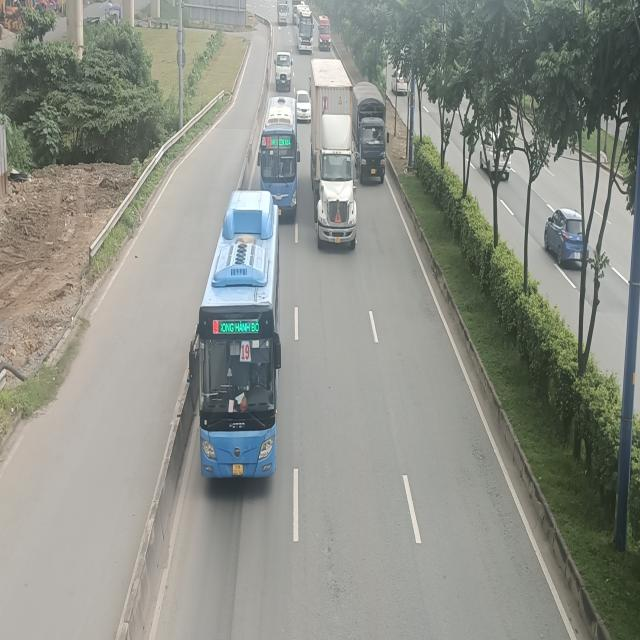car: (296, 90, 312, 122)
coach: (189, 190, 282, 478), (257, 96, 301, 218), (296, 5, 314, 52)
container: (308, 57, 359, 248)
truck: (353, 81, 389, 186), (274, 52, 293, 90), (277, 0, 289, 26)
van: (318, 15, 331, 50)
